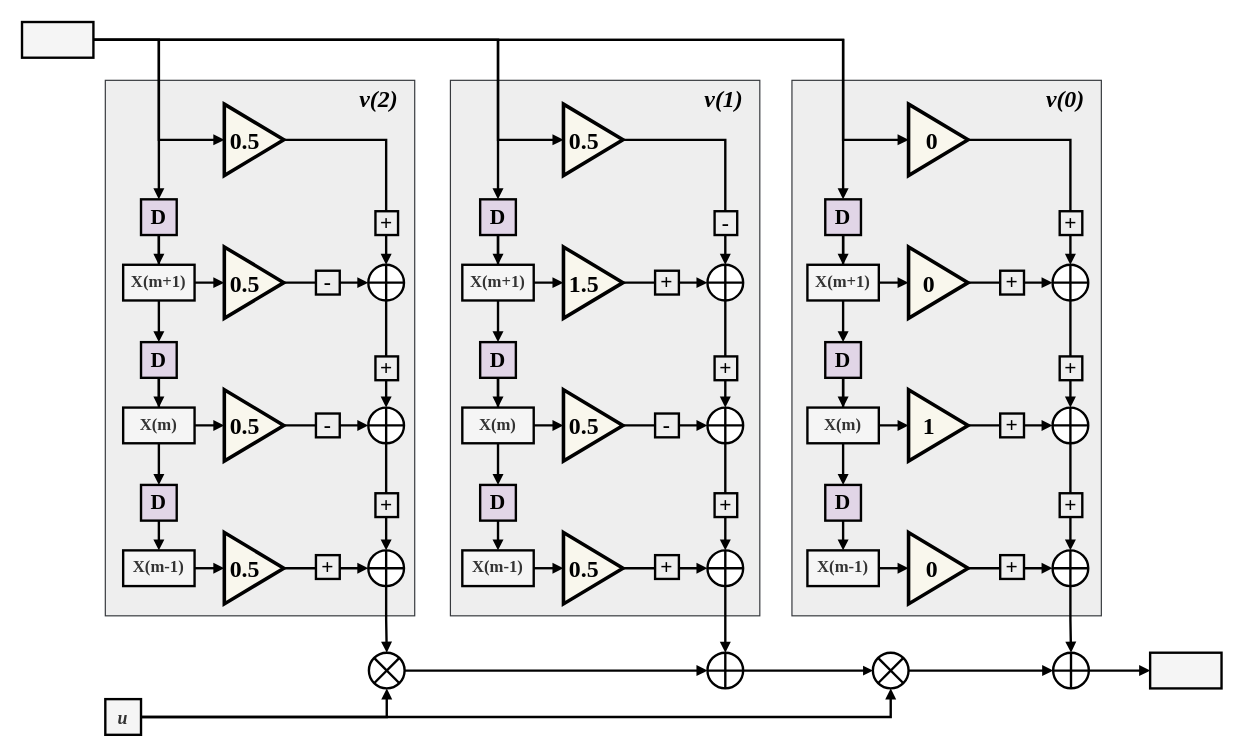
This 1242x756 diagram has some shape labels left out. Each missing label, with the centre of its shape:
X(m+2): the point at 57,39
X(m+u): the point at 1185,670
